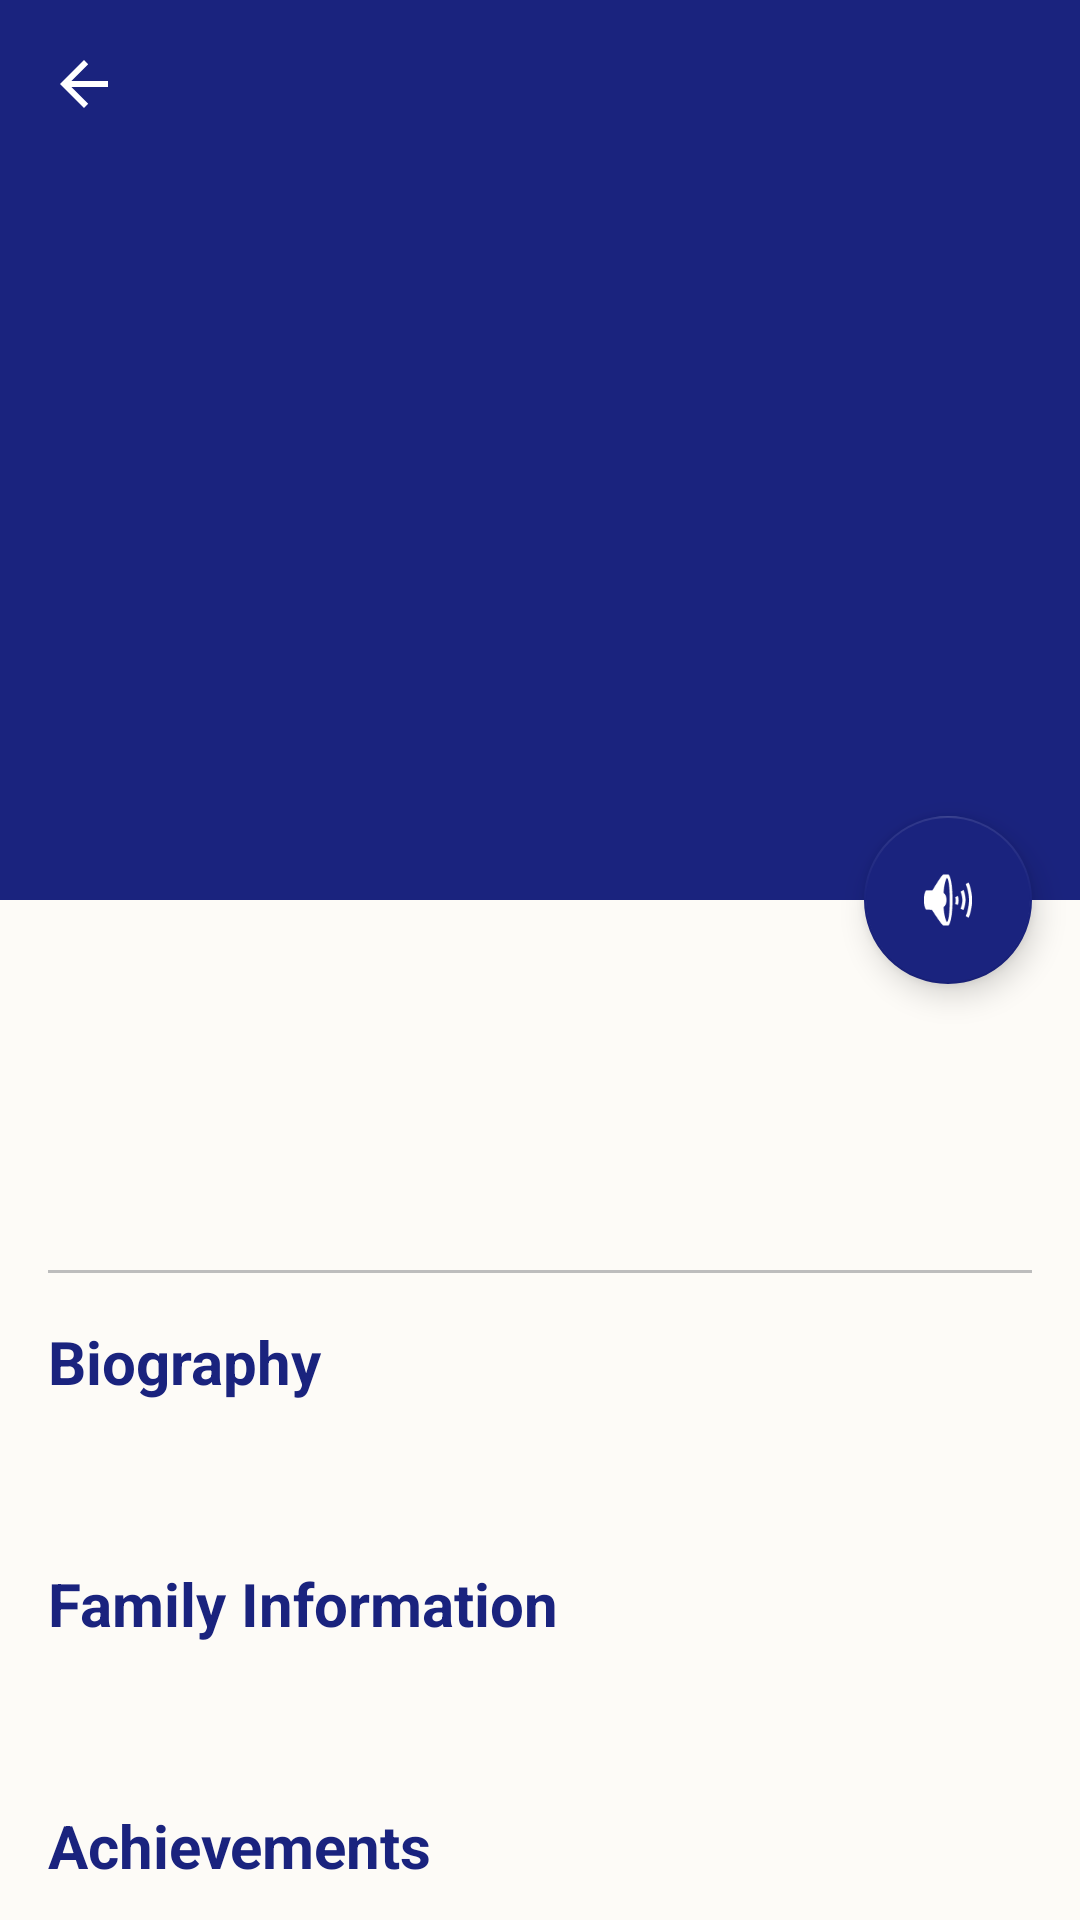

Where to tap for icons on this 1080px×1920px app screen, as (x=x, y=y):
Read Biography: (x=948, y=900)
